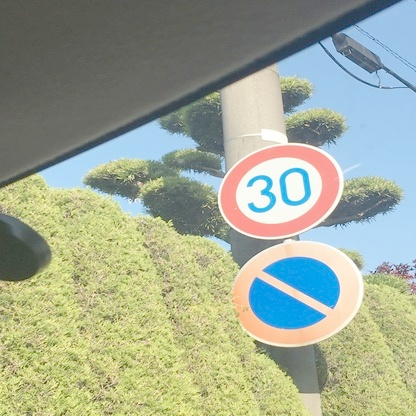Prohibition_sign: (201, 239, 388, 369)
Speed_sign: (207, 141, 356, 237)
